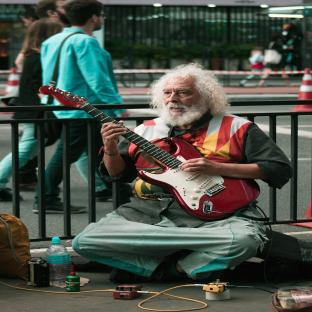Human: (72, 179, 266, 284), (134, 65, 293, 189), (99, 123, 150, 183), (243, 204, 260, 217)
